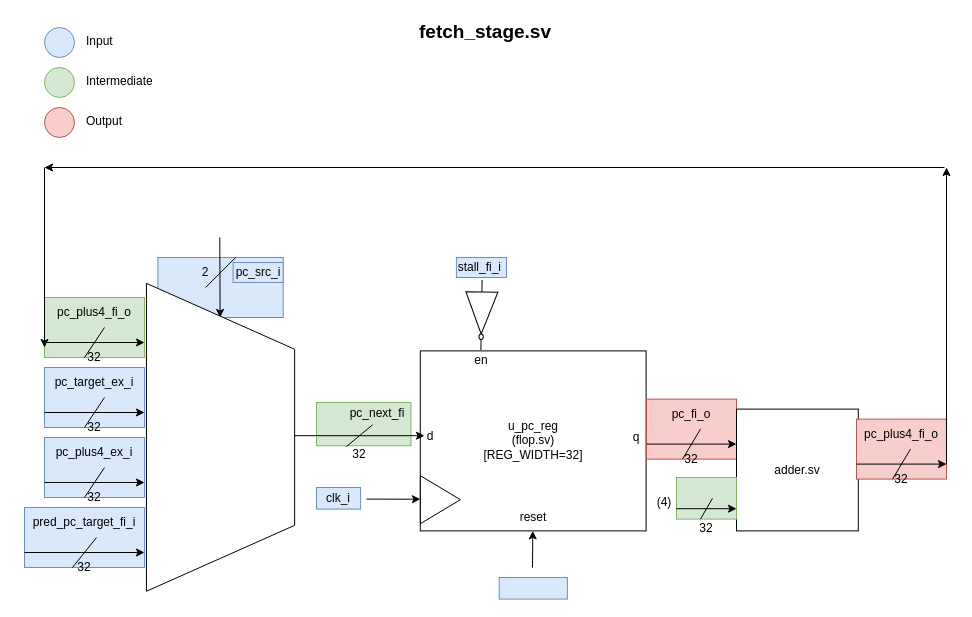
This 972x617 diagram has some shape labels left out. The centre of each missing label's shape, as x and y in pixels:
"4 to 1 mux" belongs at point 220,436.
"reset_i" belongs at point 532,587.
